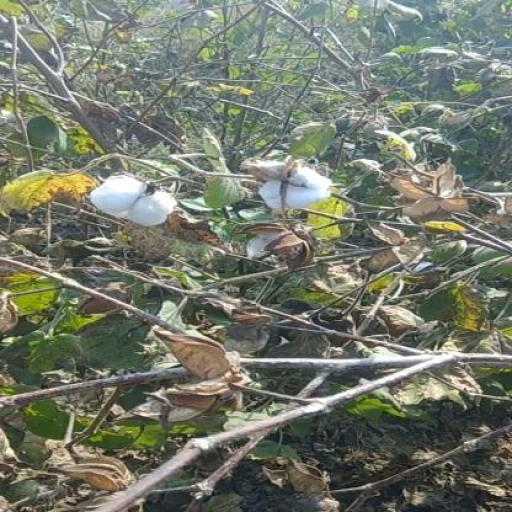cotton_ready: (230, 150, 353, 216), (91, 173, 179, 236)
